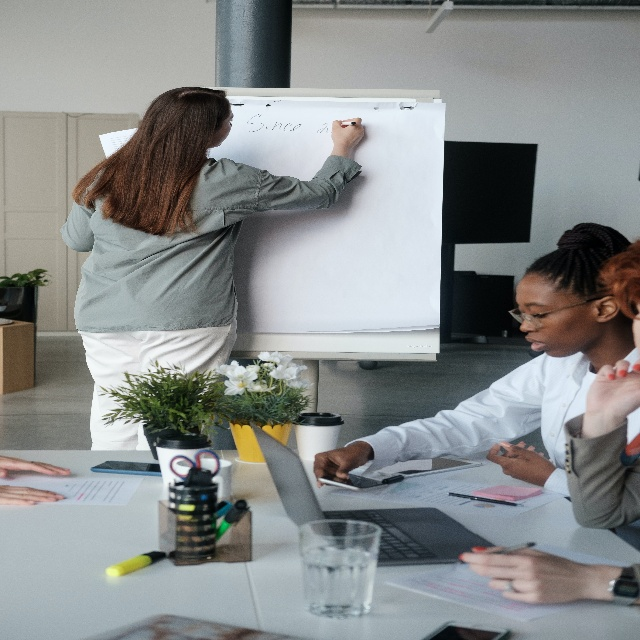Gafas: (508, 293, 615, 328)
Sin_guantes: (458, 541, 582, 605), (585, 358, 640, 423), (485, 437, 551, 486), (313, 446, 368, 488), (331, 117, 365, 148)
